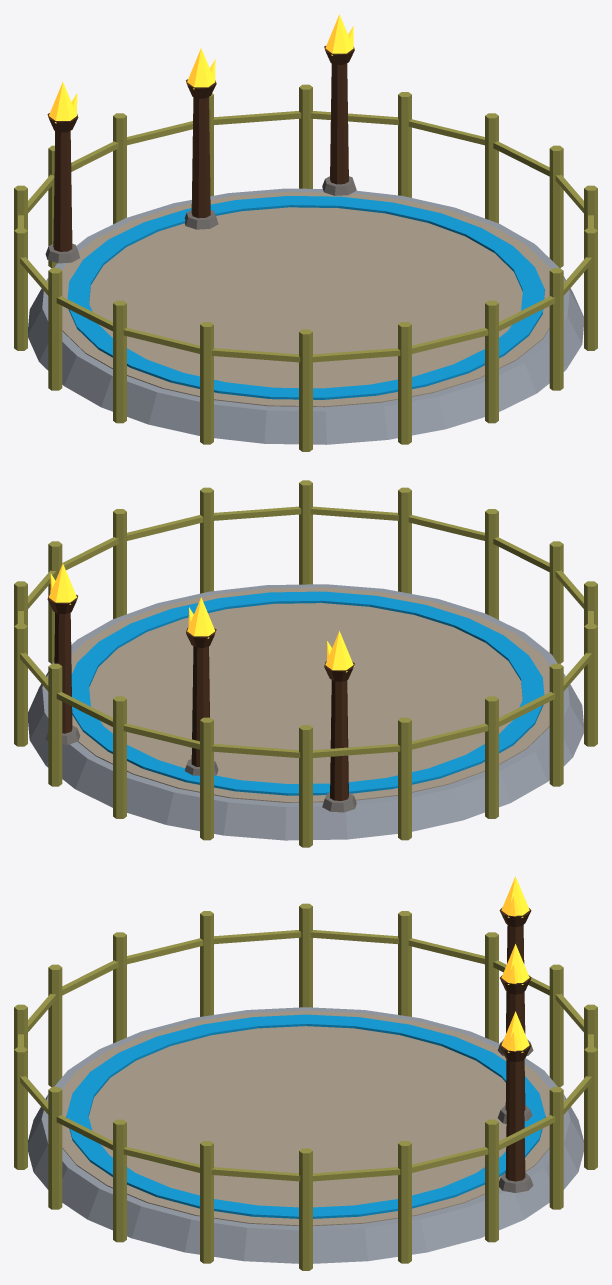
File: panggung_uji_v001.glb
3 views of the same model, one above another, from view 1: azimuth 30°, elevation 25°; view 2: azimuth 150°, elevation 25°; view 3: azimuth 270°, elevation 25° (orthographic).
Visible parts, largest first — view 1: Arena_Uji, Pagar_Uji, Cincin_Aksen, Api_2_Nyala, Api_3_Nyala, Api_1_Nyala; view 2: Arena_Uji, Pagar_Uji, Cincin_Aksen, Api_2_Nyala, Api_3_Nyala, Api_1_Nyala; view 3: Arena_Uji, Pagar_Uji, Cincin_Aksen, Api_1_Nyala, Api_3_Nyala, Api_2_Nyala.
Part boxes in pixels (x1,y1,x2,y2): Arena_Uji: (28, 46, 583, 444); Pagar_Uji: (14, 84, 597, 451); Cincin_Aksen: (67, 196, 544, 399); Api_2_Nyala: (186, 48, 215, 89); Api_3_Nyala: (324, 14, 353, 55); Api_1_Nyala: (48, 82, 77, 123); Arena_Uji: (28, 584, 583, 840); Pagar_Uji: (14, 480, 597, 847); Cincin_Aksen: (71, 591, 544, 795); Api_2_Nyala: (187, 597, 215, 638); Api_3_Nyala: (49, 563, 77, 604); Api_1_Nyala: (325, 631, 354, 672); Arena_Uji: (28, 907, 583, 1263); Pagar_Uji: (14, 903, 597, 1270); Cincin_Aksen: (66, 1014, 545, 1218); Api_1_Nyala: (501, 876, 529, 917); Api_3_Nyala: (501, 1011, 529, 1052); Api_2_Nyala: (501, 944, 529, 984).
Bounding box in the file's own units: 5.92 × 2.24 × 5.85.
